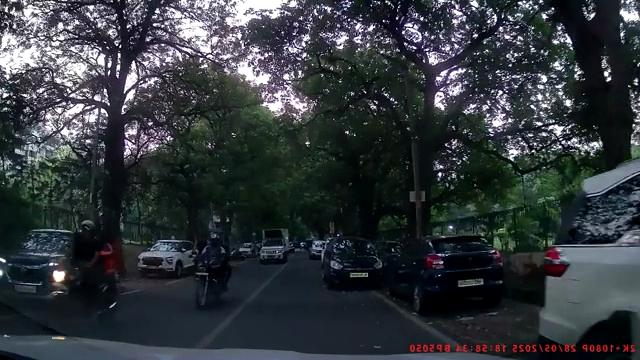motorcycle_with_helmet: (65, 218, 120, 324), (192, 235, 233, 309)
